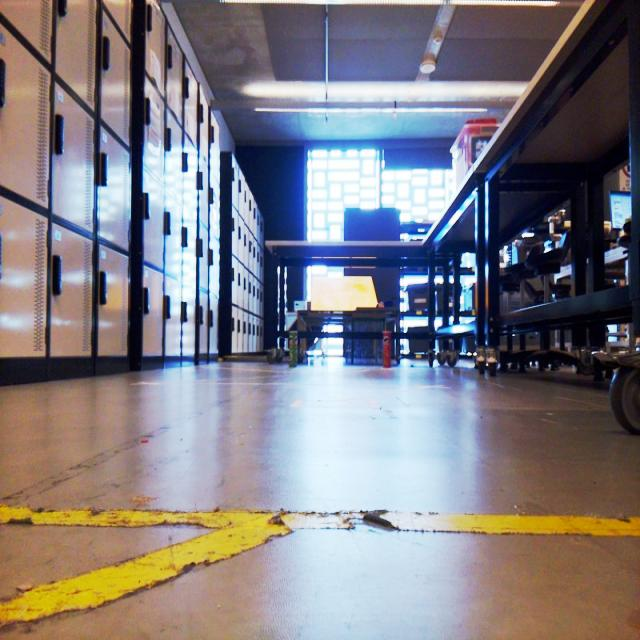greenpringles: (285, 318, 302, 375)
redpringles: (378, 317, 395, 366)
